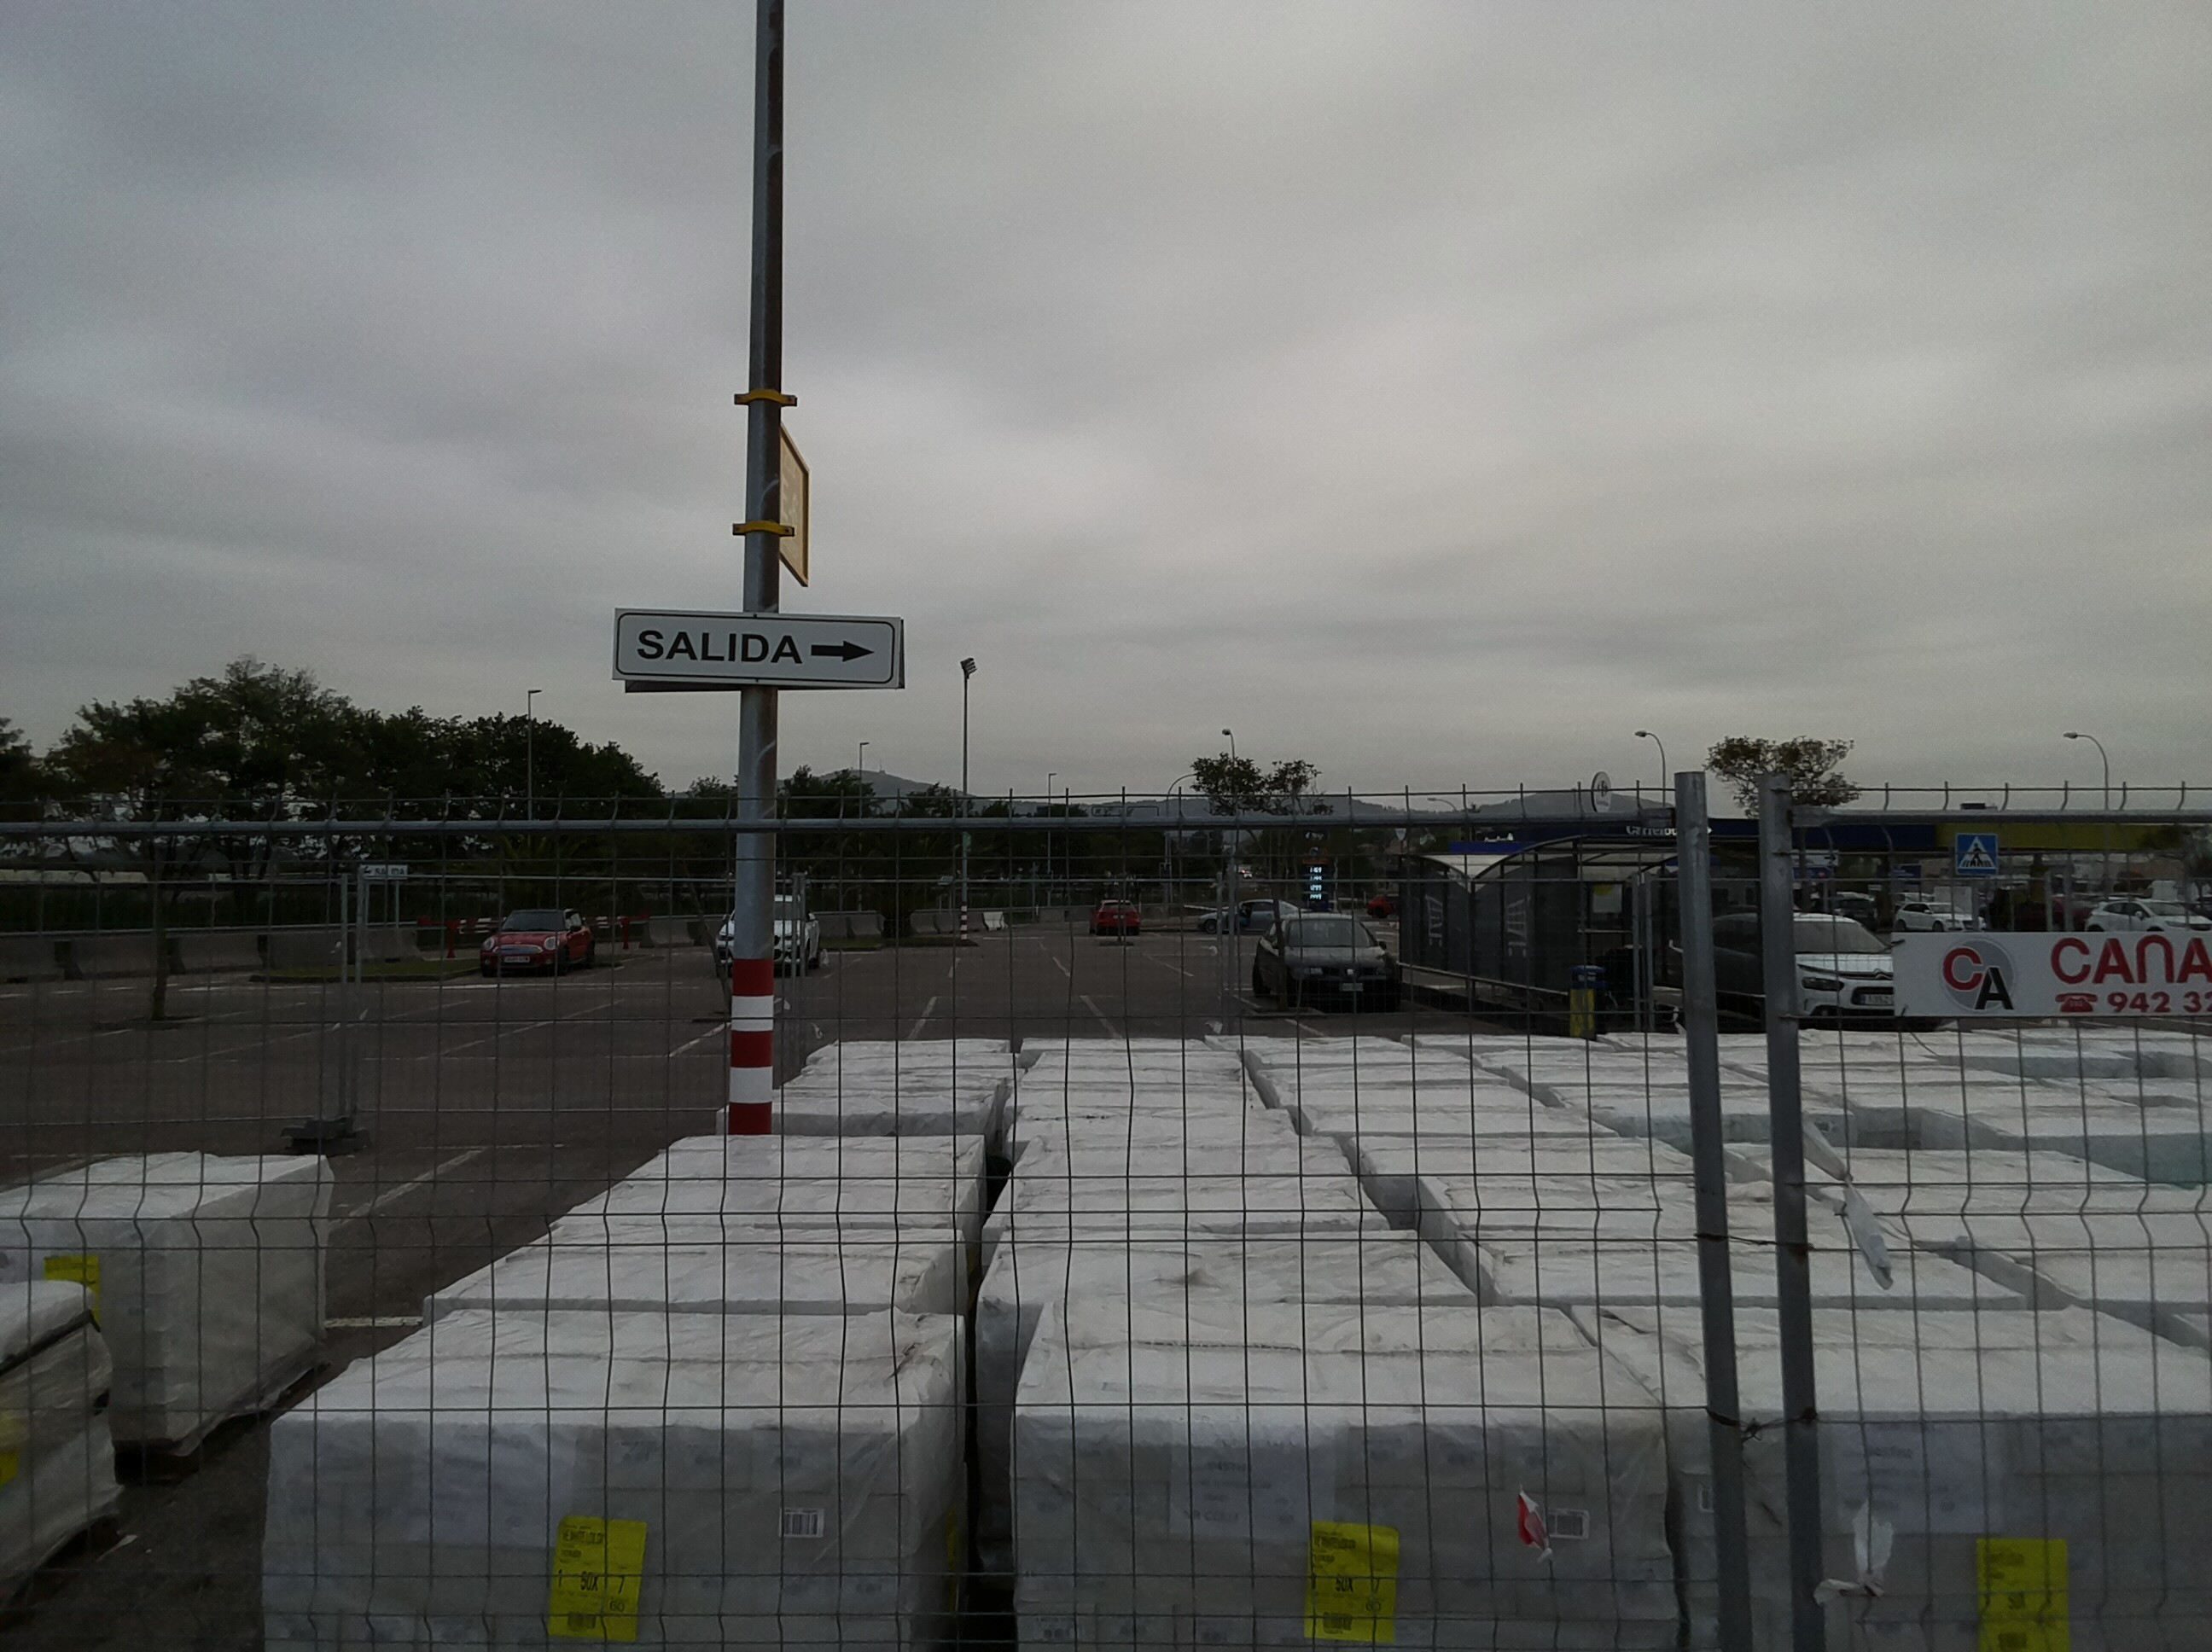Cartel: (605, 602, 921, 708)
Muro: (533, 1199, 2200, 1624)
Poste: (725, 2, 805, 1118)
Valla: (0, 809, 2212, 1636)
